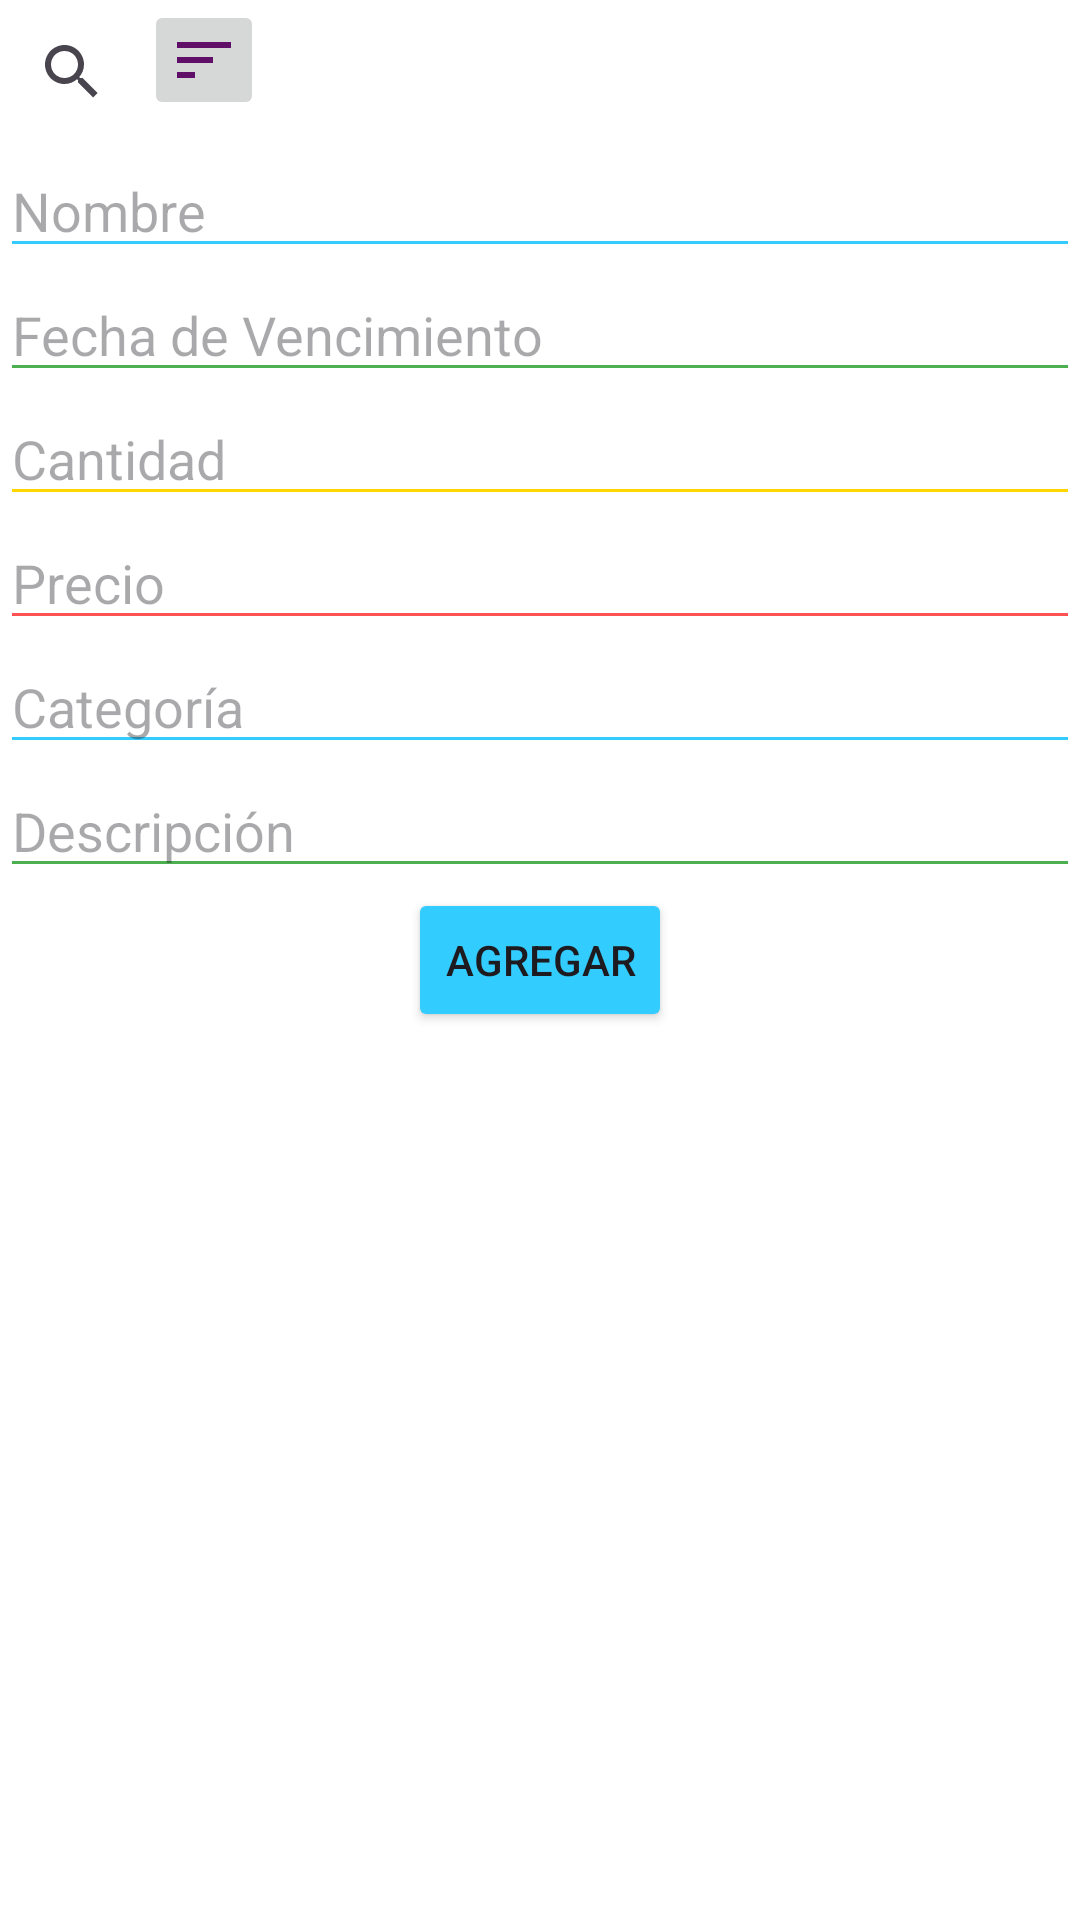

Icon bounding boxes for this 1080 × 1920 phone screenshot, format (x1, y1, x2, y2):
sort: (156, 18, 252, 102)
